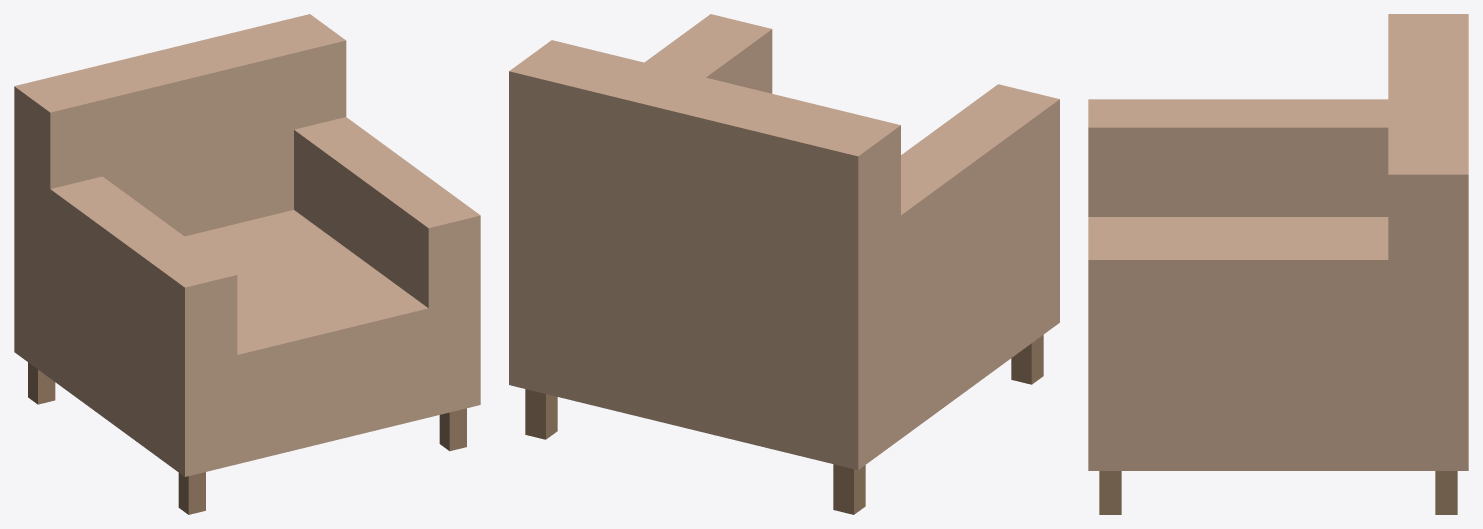
File: armchair.glb
The picture shows the model from 3 angles, left to right: view 1: azimuth 30°, elevation 25°; view 2: azimuth 150°, elevation 25°; view 3: azimuth 270°, elevation 25°; orthographic projection. The views are drawn at different scales.
Parts seen in each view (by area): view 1: Base, Back, Arm (×2), Leg (×3); view 2: Back, Base, Arm (×2), Leg (×3); view 3: Arm (×2), Base, Back, Leg (×2).
Boxes of the visible parts, x1=… form: Base: x1=14, y1=210, x2=480, y2=476; Back: x1=14, y1=14, x2=346, y2=268; Arm (×2): x1=50, y1=117, x2=480, y2=367; Leg (×3): x1=28, y1=362, x2=466, y2=514; Back: x1=509, y1=40, x2=900, y2=340; Base: x1=509, y1=194, x2=1059, y2=469; Arm (×2): x1=509, y1=14, x2=1059, y2=340; Leg (×3): x1=525, y1=335, x2=1043, y2=514; Arm (×2): x1=1088, y1=99, x2=1468, y2=349; Base: x1=1088, y1=217, x2=1468, y2=470; Back: x1=1388, y1=14, x2=1468, y2=349; Leg (×2): x1=1099, y1=471, x2=1457, y2=514.
Bounding box in the file's own units: 0.85 × 0.85 × 0.85.
